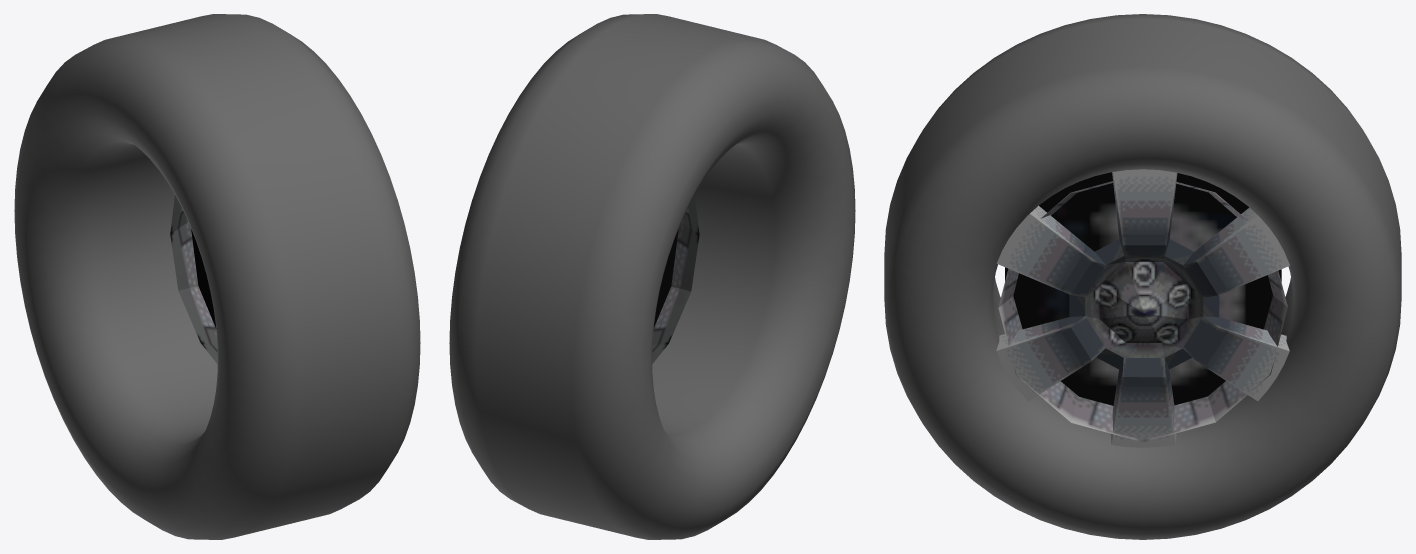
File: ford_escape_wheel_small.dae
The picture shows the model from 3 angles, left to right: view 1: azimuth 30°, elevation 25°; view 2: azimuth 150°, elevation 25°; view 3: azimuth 270°, elevation 25°; orthographic projection.
Parts seen in each view (by area): view 1: DrawCall12_3_ncl1_1; view 2: DrawCall12_3_ncl1_1; view 3: DrawCall12_3_ncl1_1.
Part boxes in pixels (x1,y1,x2,y2): DrawCall12_3_ncl1_1: (14, 14, 420, 539); DrawCall12_3_ncl1_1: (449, 14, 855, 539); DrawCall12_3_ncl1_1: (884, 14, 1401, 539).
Bounding box in the file's own units: 4.66 × 11.1 × 11.1.
